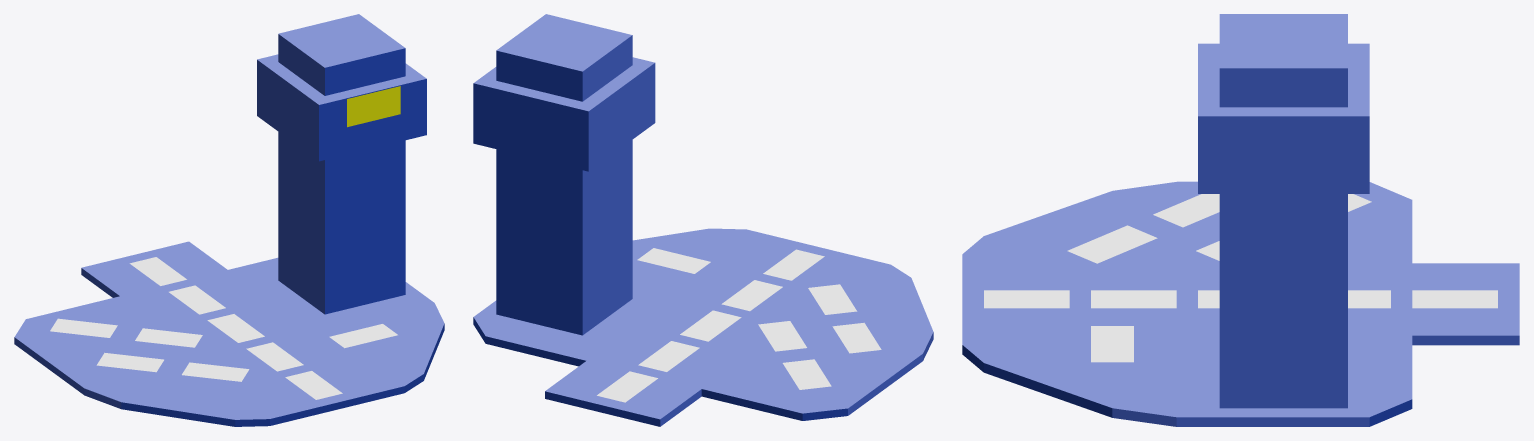
File: Airport.CobaltIce.glb
3 views of the same model, side by side, from view 1: azimuth 30°, elevation 25°; view 2: azimuth 150°, elevation 25°; view 3: azimuth 270°, elevation 25° (orthographic). The views are drawn at different scales.
Visible parts, largest first — view 1: Airport.CobaltIce; view 2: Airport.CobaltIce; view 3: Airport.CobaltIce.
Boxes of the visible parts, x1,y1,x2,y2 form: Airport.CobaltIce: (14,14,444,426); Airport.CobaltIce: (473,14,933,426); Airport.CobaltIce: (962,14,1519,426).
Bounding box in the file's own units: 2.6 × 1.8 × 2.6.
2 materials, 1 textured.
